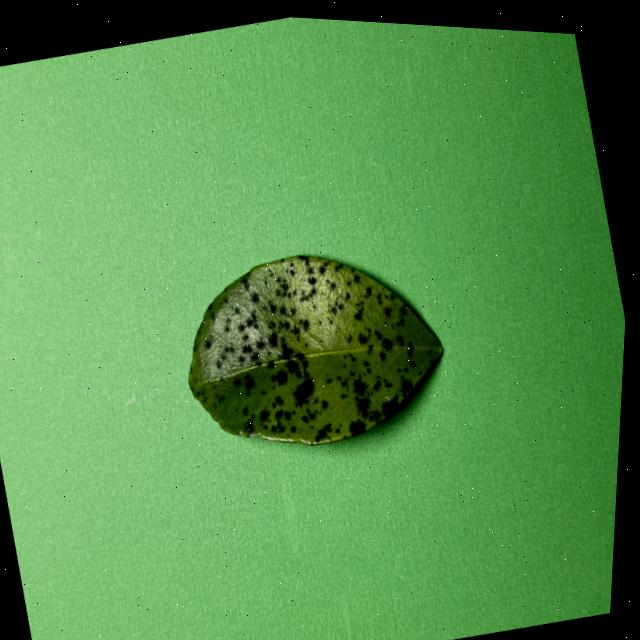sooty_mold: (188, 253, 441, 443)
